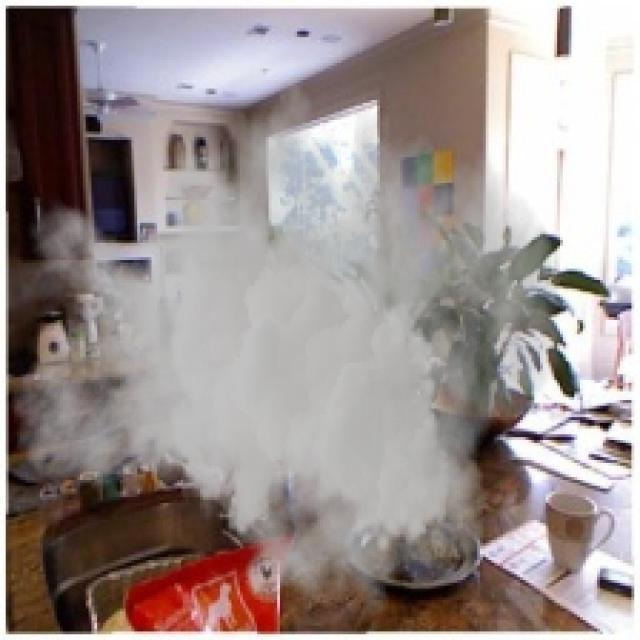Smoke: (8, 48, 563, 618)
